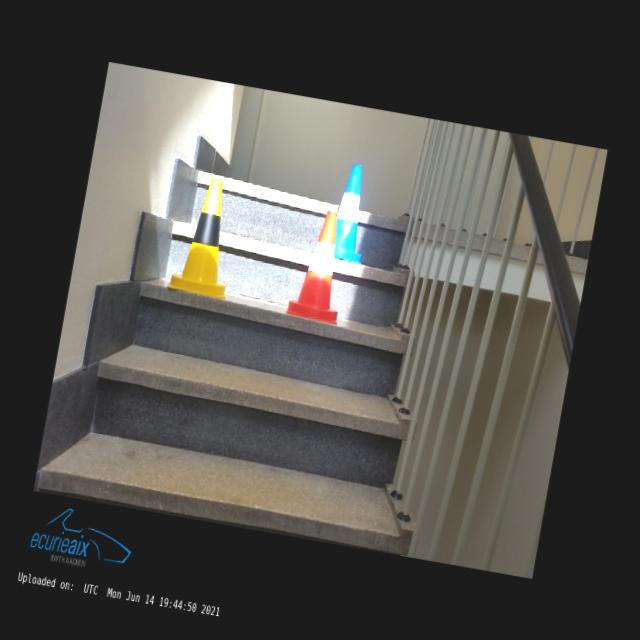blue_cone: (329, 162, 377, 264)
orange_cone: (285, 206, 355, 324)
yellow_cone: (167, 174, 245, 298)
